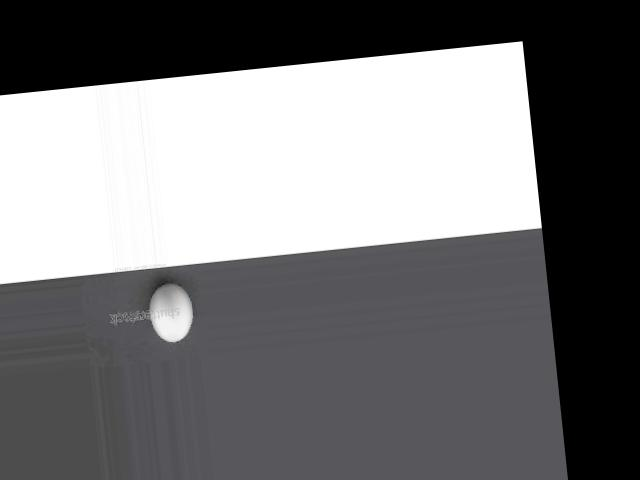egg: (147, 281, 195, 344)
